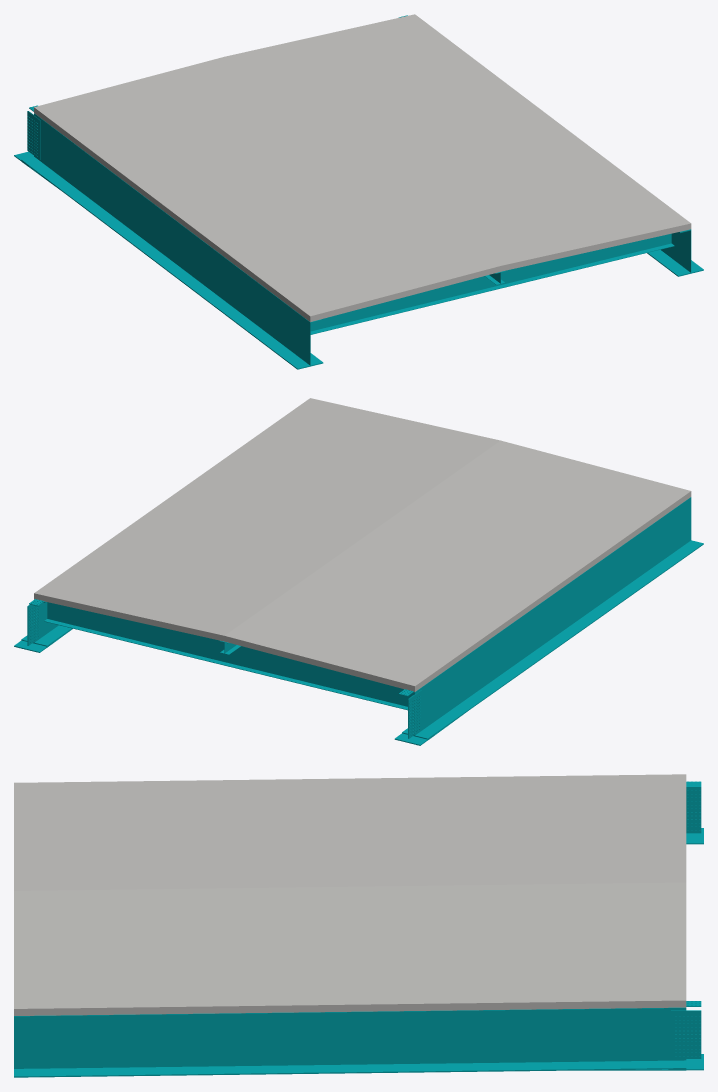
File: DECK_NN01.glb
The picture shows the model from 3 angles, top to bottom: view 1: azimuth 30°, elevation 25°; view 2: azimuth 150°, elevation 25°; view 3: azimuth 270°, elevation 25°; orthographic projection. The views are drawn at different scales.
Parts seen in each view (by area): view 1: NN01_Slab_29, NN01_G_W_0, NN01_FB_web_25, NN01_FB_bf_28, NN01_G_E_1, NN01_SpliceW_31; view 2: NN01_Slab_29, NN01_G_W_0, NN01_FB_web_5, NN01_FB_bf_8, NN01_G_E_1, NN01_SpliceW_31; view 3: NN01_Slab_29, NN01_G_E_1, NN01_SpliceW_40, NN01_SpliceW_32.
Part boxes in pixels (x1,y1,x2,y2): NN01_Slab_29: [34, 14, 691, 321]; NN01_G_W_0: [21, 113, 323, 369]; NN01_FB_web_25: [310, 233, 671, 331]; NN01_FB_bf_28: [310, 243, 674, 334]; NN01_G_E_1: [647, 229, 703, 276]; NN01_SpliceW_31: [27, 111, 40, 159]; NN01_Slab_29: [34, 398, 691, 691]; NN01_G_W_0: [402, 497, 703, 739]; NN01_FB_web_5: [47, 602, 414, 706]; NN01_FB_bf_8: [44, 619, 407, 710]; NN01_G_E_1: [21, 601, 72, 646]; NN01_SpliceW_31: [408, 690, 421, 738]; NN01_Slab_29: [14, 774, 686, 1015]; NN01_G_E_1: [14, 1007, 686, 1077]; NN01_SpliceW_40: [671, 1010, 701, 1058]; NN01_SpliceW_32: [686, 787, 701, 833].
Size of the model in its own units: 18.26 by 2.63 by 22.07.
